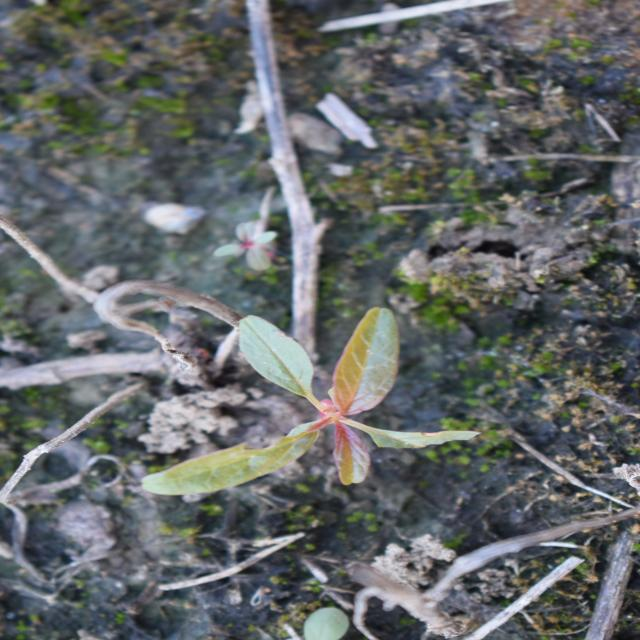Waterhemp: (139, 306, 486, 498)
